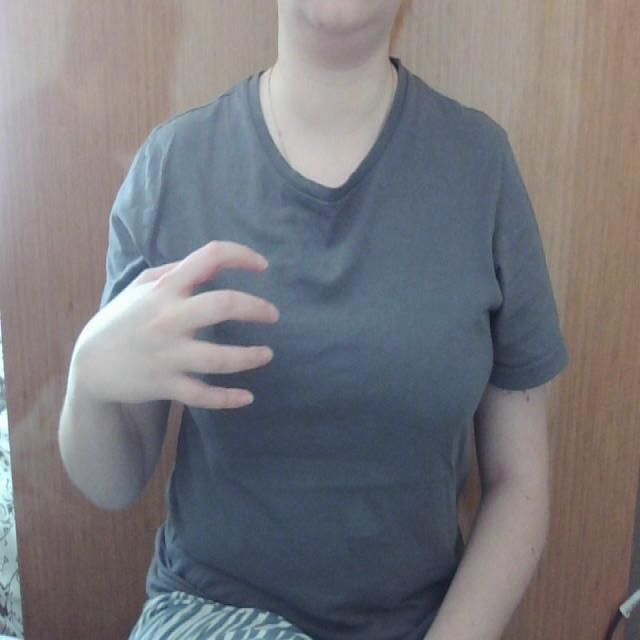Anne: (65, 217, 509, 443)
